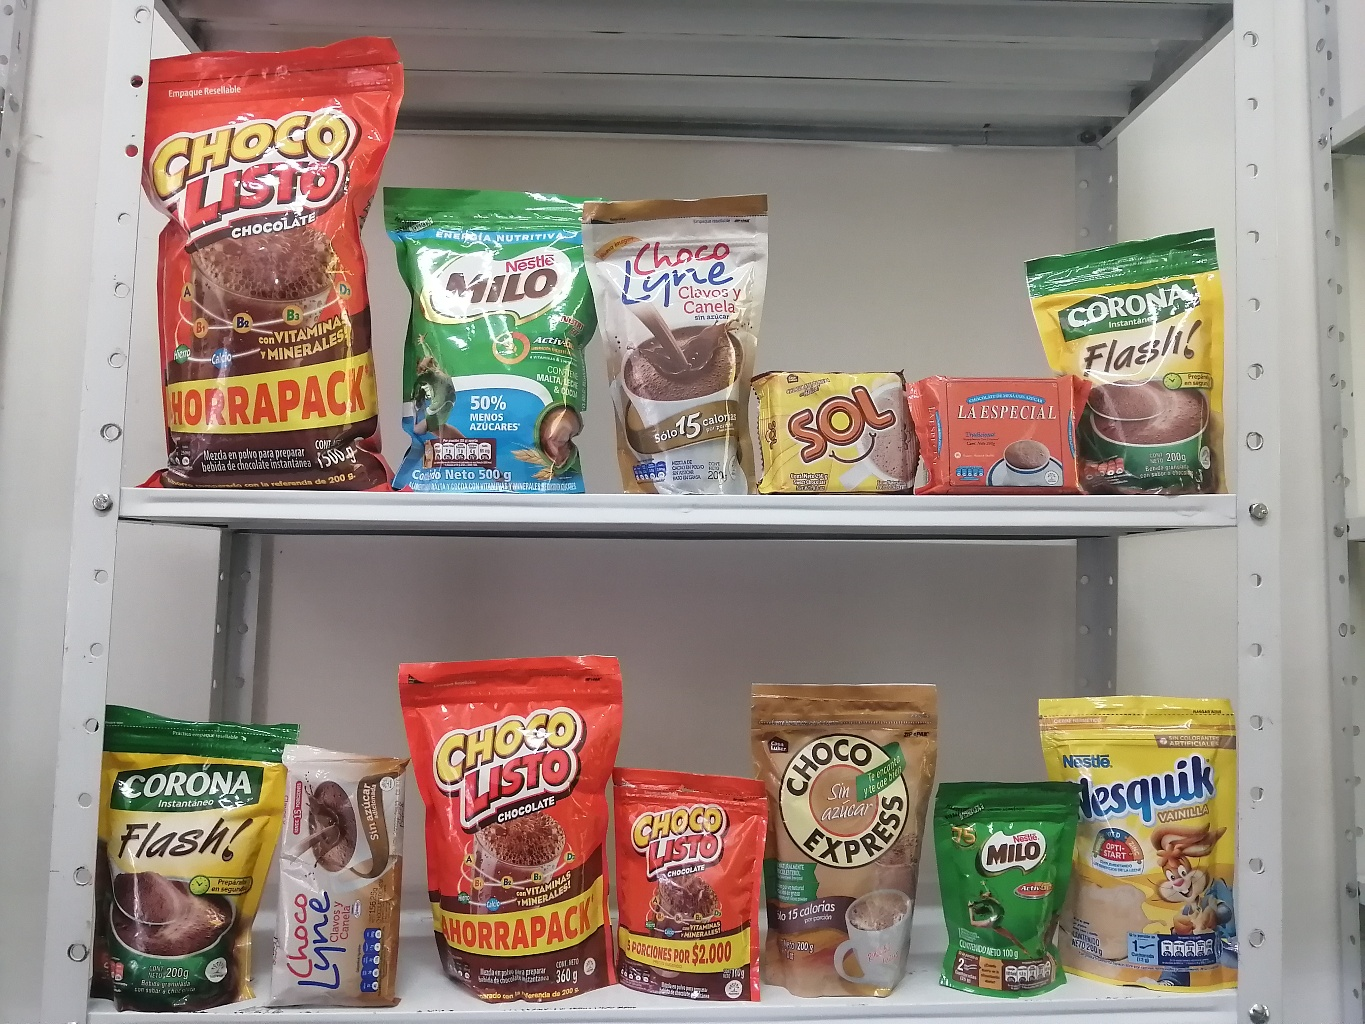COL0170103DYP1,500: (85, 35, 436, 499)
COL0170103DYP36000: (366, 636, 642, 1011)
COL0170203DYP10000: (907, 764, 1085, 1001)
COL0170205DYP50000: (358, 160, 615, 503)
COL0170306DYP20000: (1025, 687, 1270, 1005)
